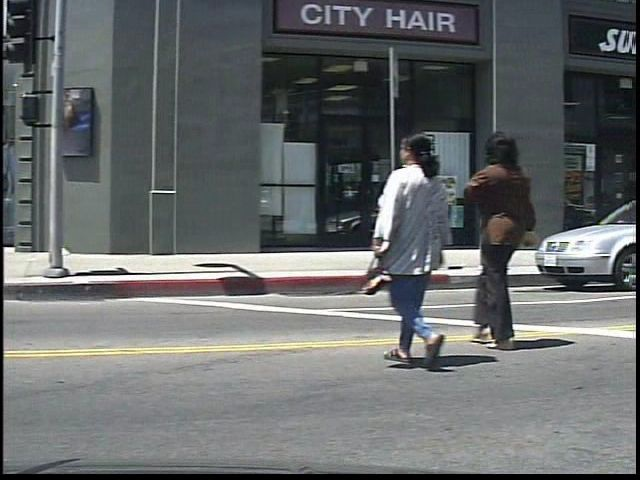person: (471, 125, 568, 355), (382, 122, 467, 371)
